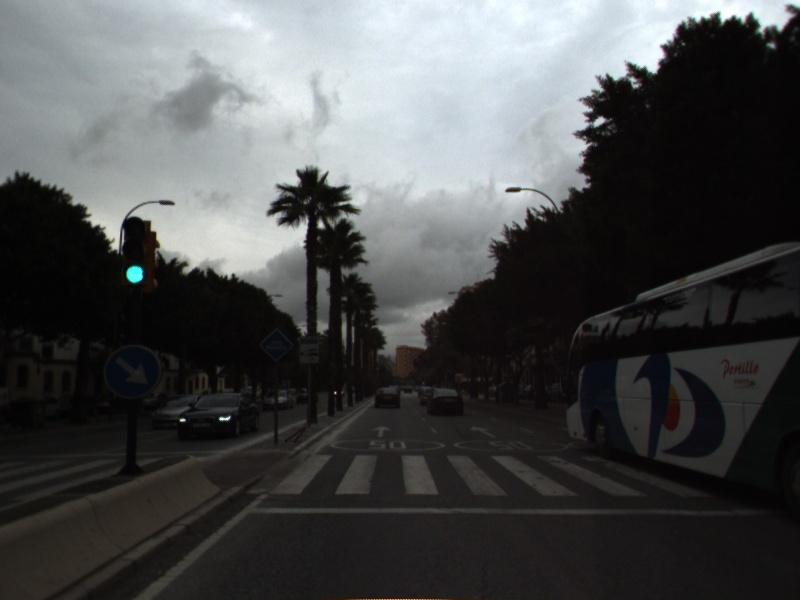STRAIGHT: (468, 424, 498, 440), (370, 423, 394, 439)
